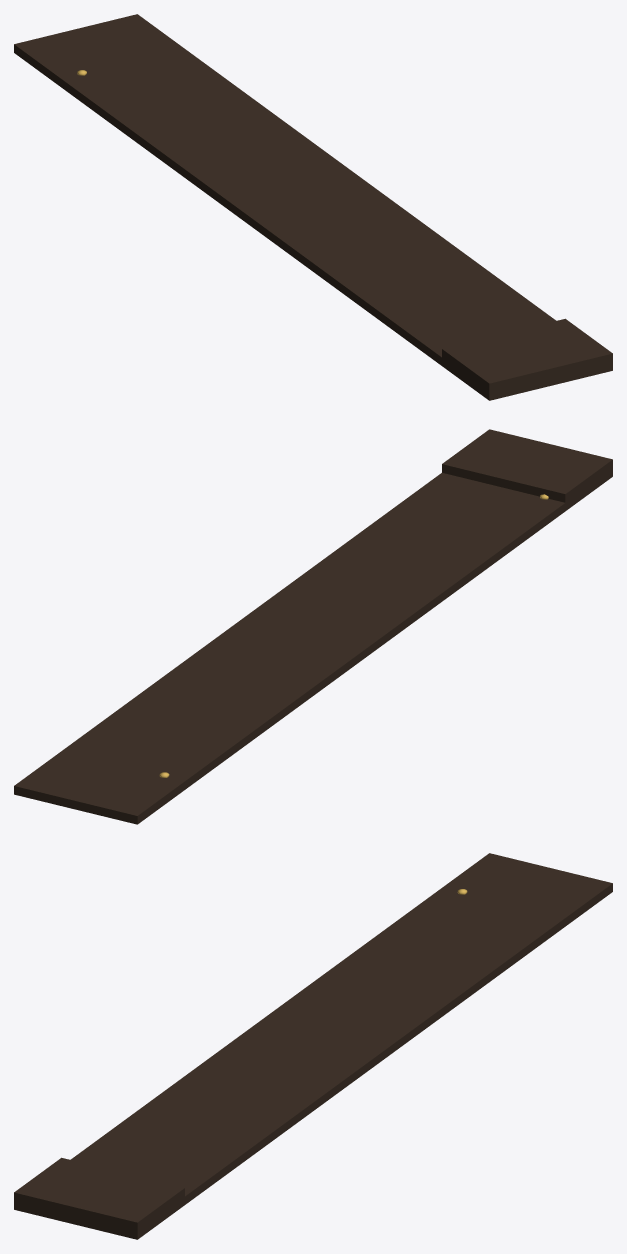
The model's file is SM_ENV_TabuaSolta.fbx.
3 views of the same model, one above another, from view 1: azimuth 30°, elevation 25°; view 2: azimuth 150°, elevation 25°; view 3: azimuth 330°, elevation 25° (orthographic).
Parts seen in each view (by area): view 1: SM_ENV_TabuaSolta; view 2: SM_ENV_TabuaSolta; view 3: SM_ENV_TabuaSolta.
Part boxes in pixels (box(x1,y1,x2,y2)): SM_ENV_TabuaSolta: box(14, 14, 612, 400); SM_ENV_TabuaSolta: box(14, 429, 612, 824); SM_ENV_TabuaSolta: box(14, 853, 612, 1239).
Size of the model in its own units: 0.3 by 0.04 by 2.
